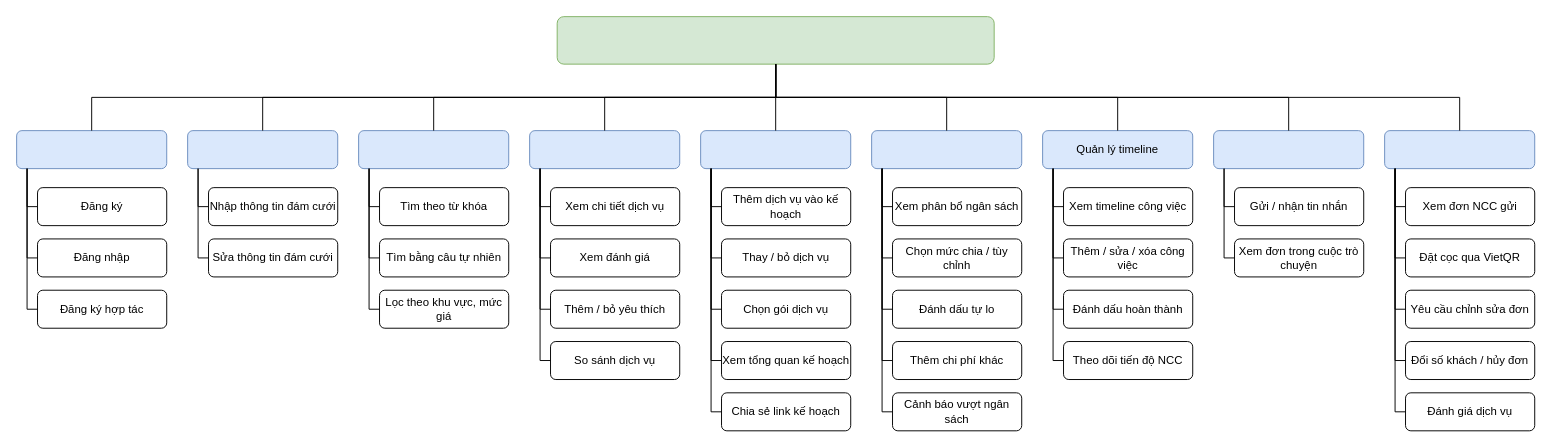
Some shapes in this 1551 by 447 pixel diagram are drawn without their labels. The box of each missing label's shape, as (x1, y1, x2, y2) in pixels:
Nhắn tin với NCC: (1213, 130, 1364, 169)
NỀN TẢNG HỖ TRỢ TẠO KẾ HOẠCH VÀ KẾT NỐI DỊCH VỤ CƯỚI: (556, 16, 994, 64)
Quản lý dịch vụ: (529, 130, 680, 169)
Quản lý kế hoạch của tôi: (700, 130, 851, 169)
Quản lý ngân sách: (871, 130, 1022, 169)
Quản lý thông tin đám cưới: (187, 130, 338, 169)
Quản lý tài khoản: (16, 130, 167, 169)
Tìm kiếm dịch vụ: (358, 130, 509, 169)
Đặt dịch vụ và thanh toán: (1384, 130, 1535, 169)
